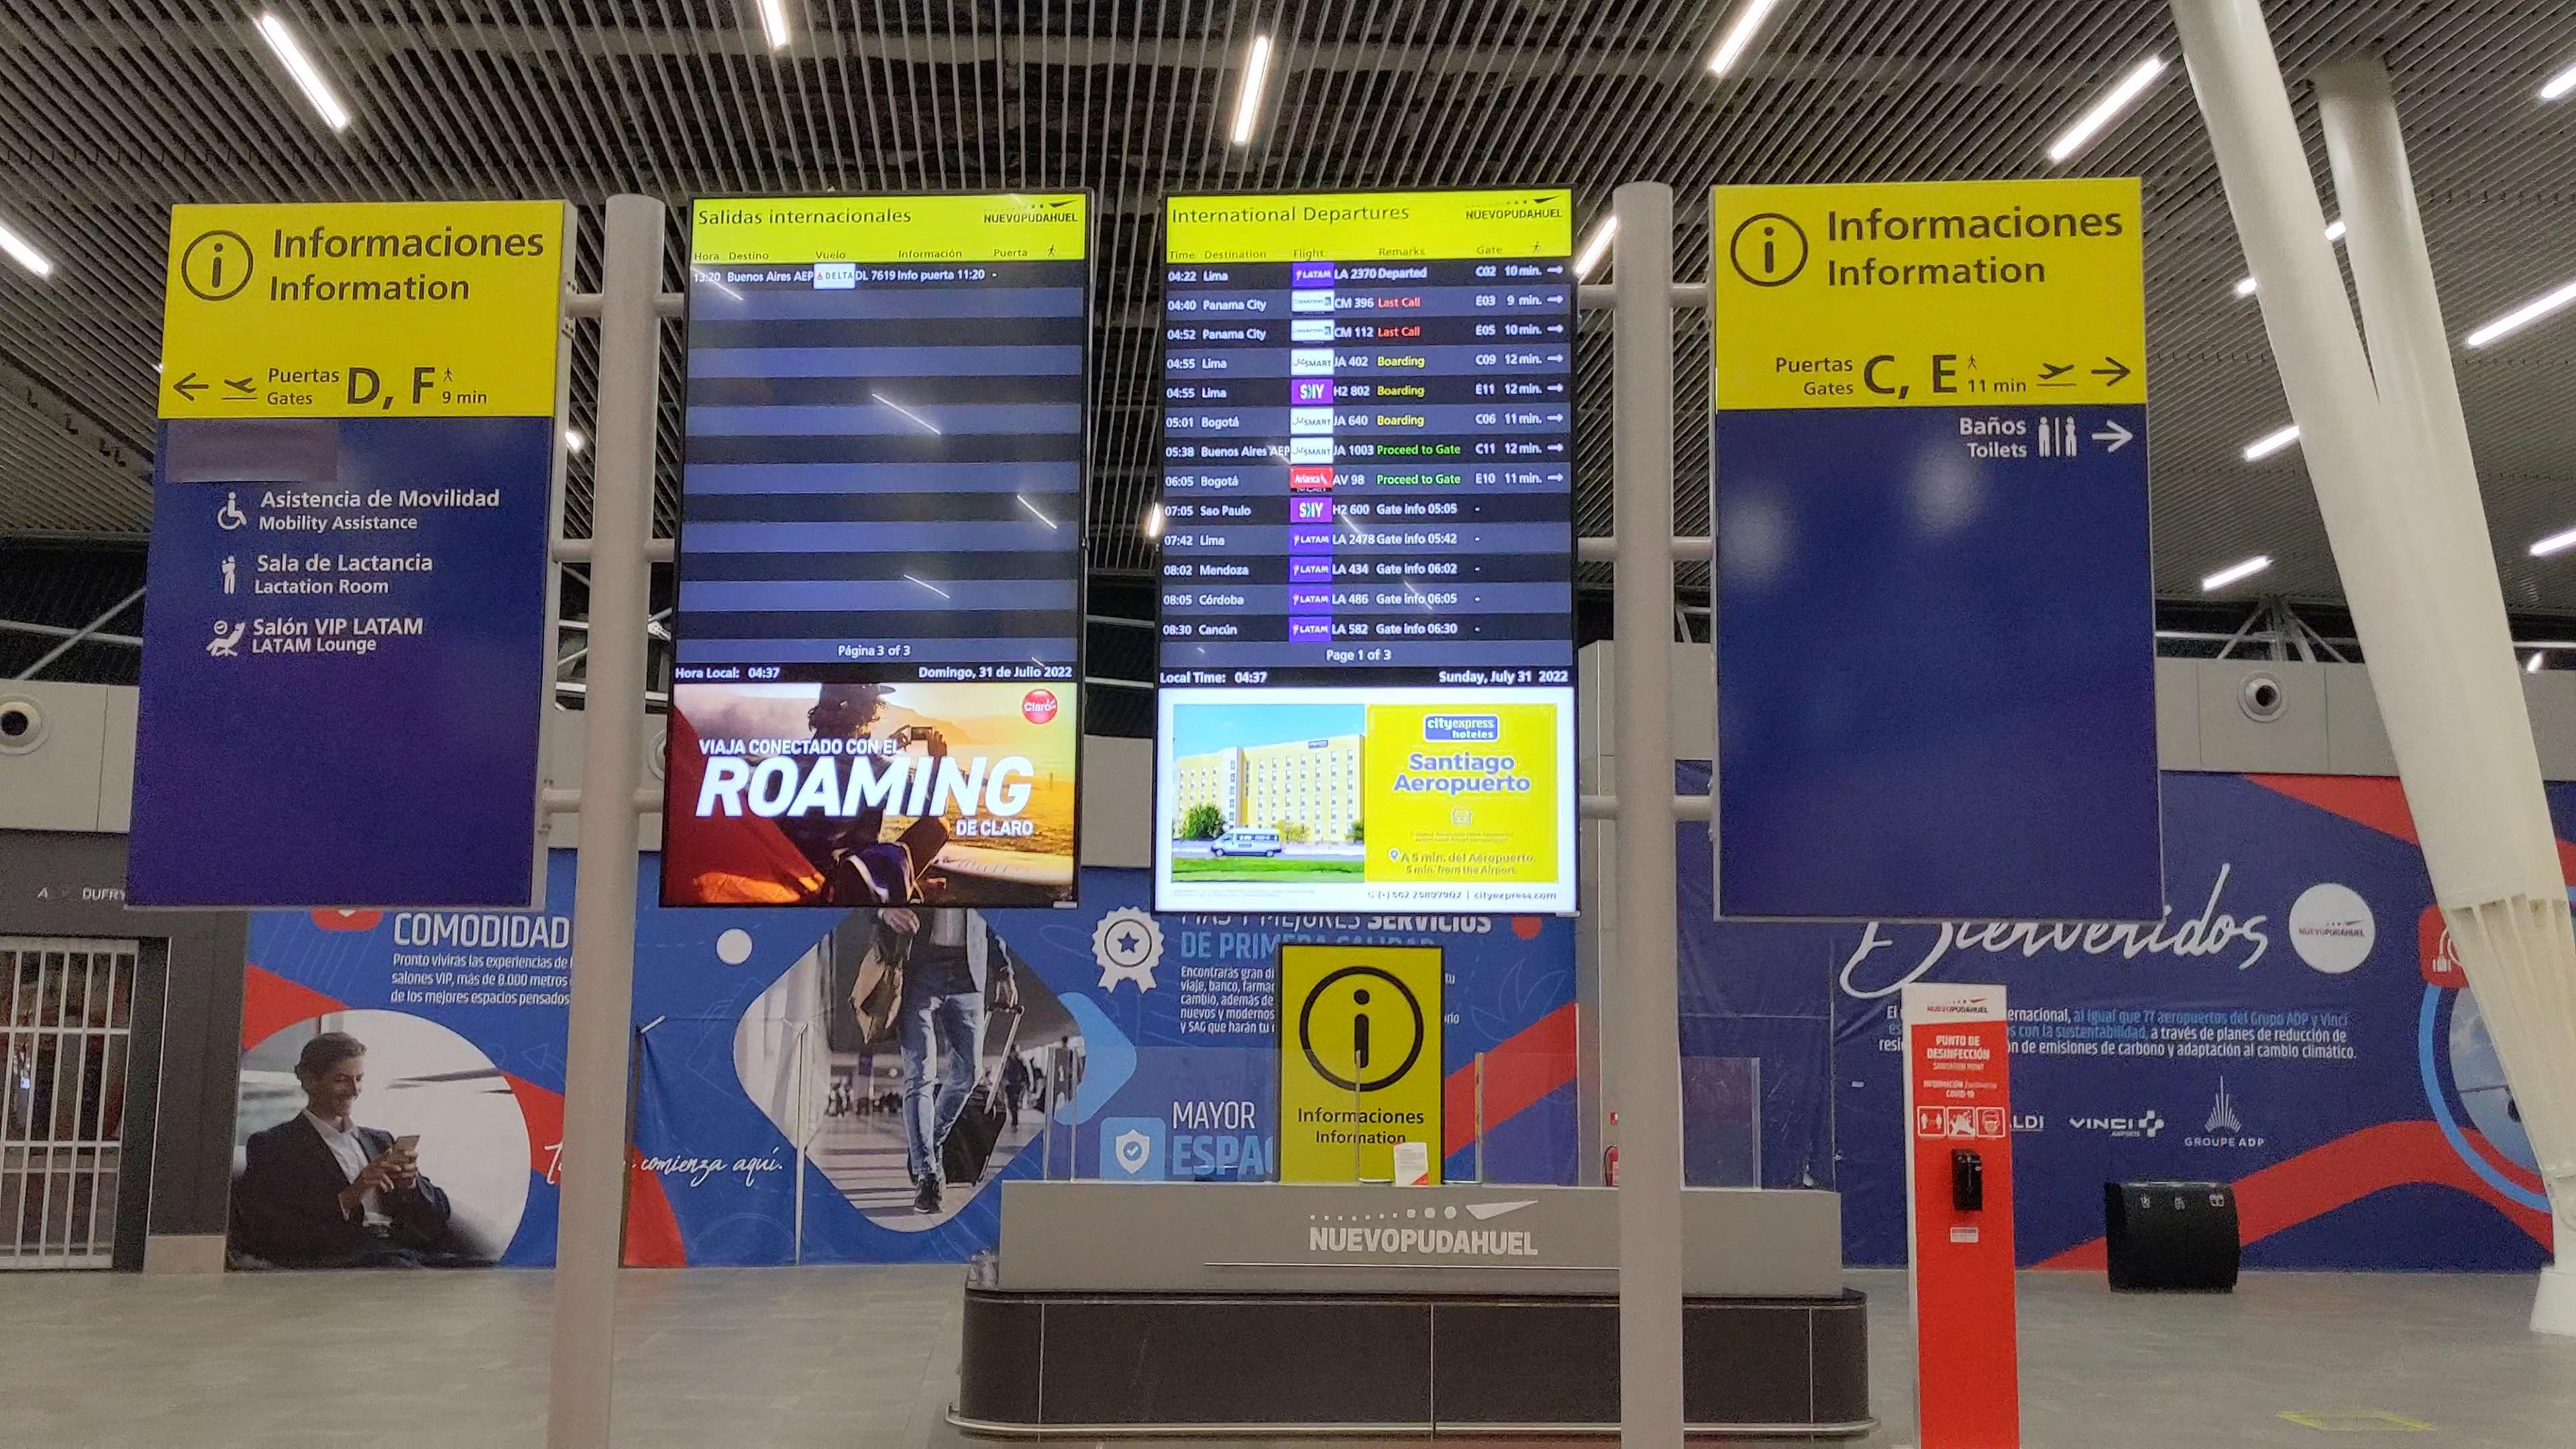airplane symbol: (2035, 359, 2075, 382), (221, 373, 258, 396)
bathrooms: (2036, 414, 2079, 458)
emergency left arrow: (170, 372, 212, 403)
handicapped symbol: (216, 490, 249, 533)
thin right arrow: (2086, 418, 2135, 453), (2088, 356, 2135, 387)
